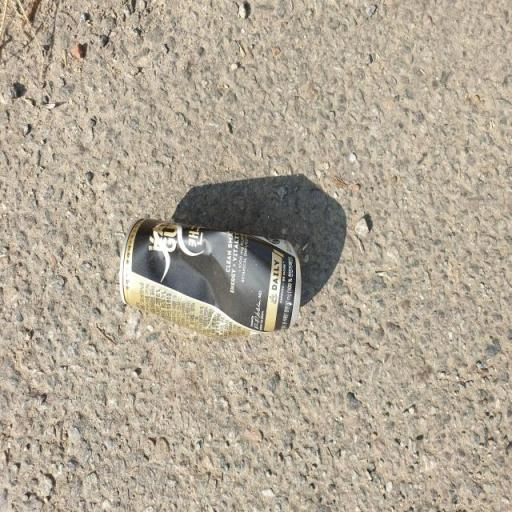metal: (100, 186, 321, 376)
